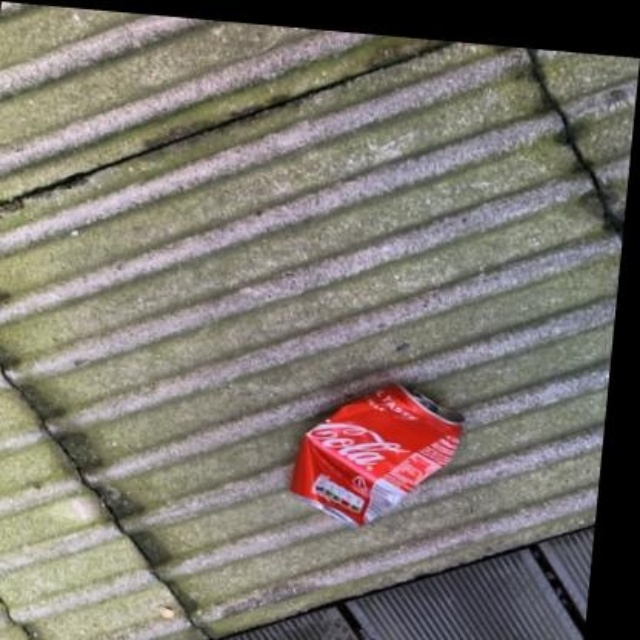trash: (291, 385, 462, 526)
